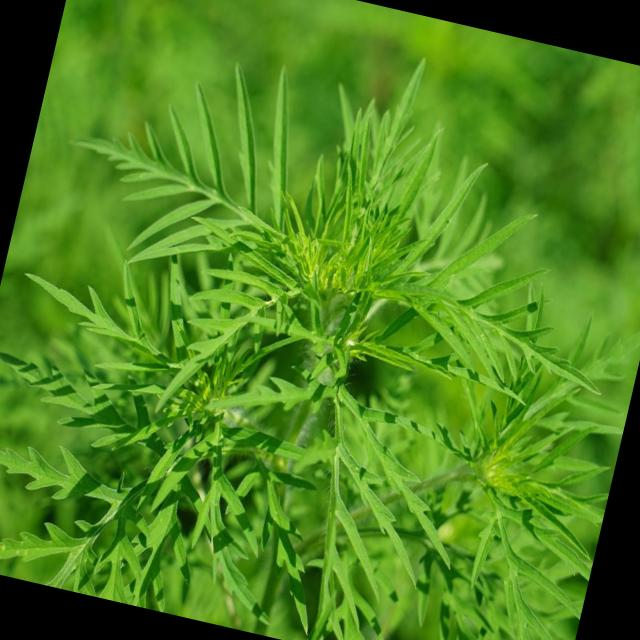ambrosia: (73, 68, 590, 577)
